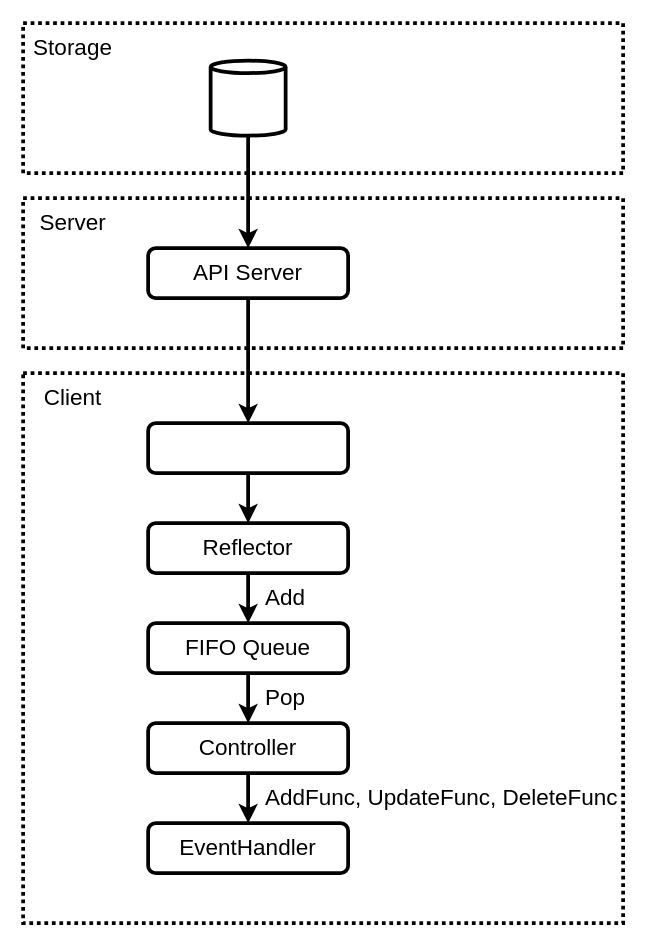
This 646x946 diagram has some shape labels left out. Each missing label, with the centre of its shape:
etcd: (x=247, y=97)
ListerWatcher: (x=247, y=447)
